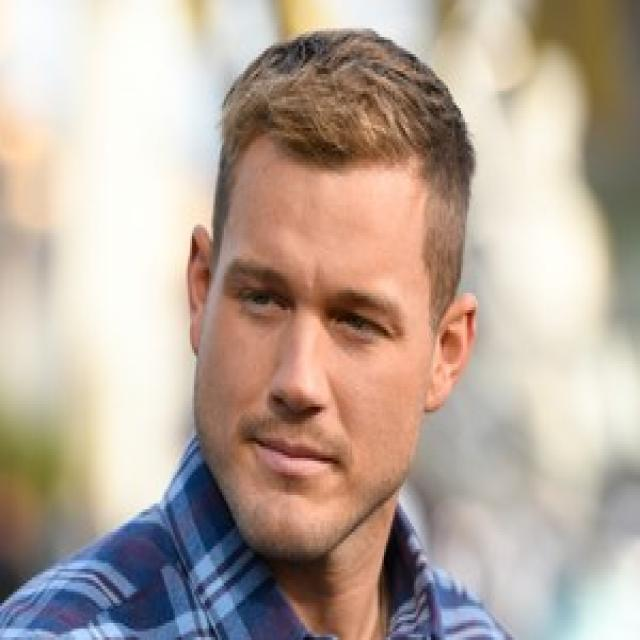human: (5, 25, 532, 640)
